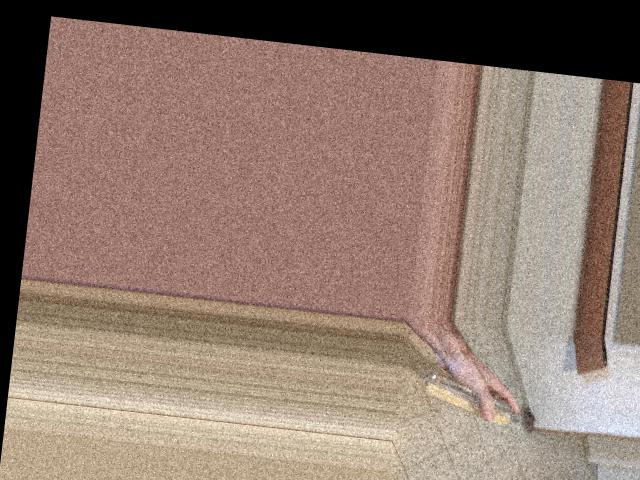cheese: (429, 349, 531, 439)
